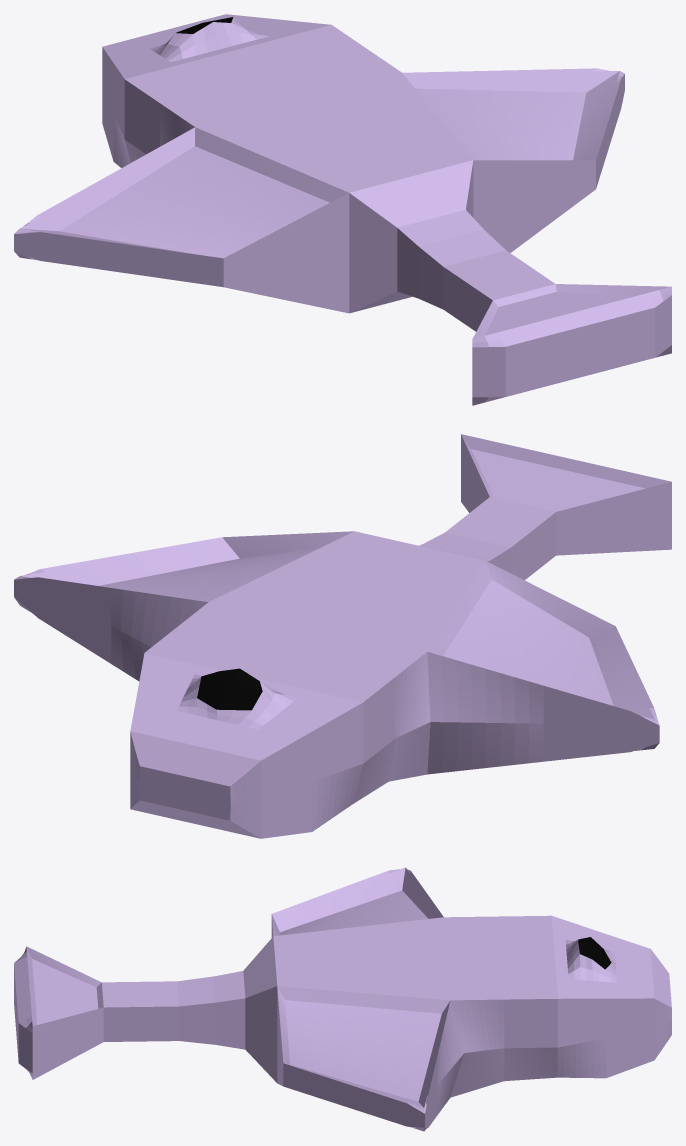
File: alienFish.fbx
The picture shows the model from 3 angles, top to bottom: view 1: azimuth 30°, elevation 25°; view 2: azimuth 150°, elevation 25°; view 3: azimuth 270°, elevation 25°; orthographic projection. The views are drawn at different scales.
Parts seen in each view (by area): view 1: alien; view 2: alien; view 3: alien.
Boxes of the visible parts, box(x1,y1,x2,y2) form: alien: box(14, 14, 671, 405); alien: box(14, 434, 671, 838); alien: box(14, 867, 671, 1131).
Bounding box in the file's own units: 2781 × 599 × 3155.
